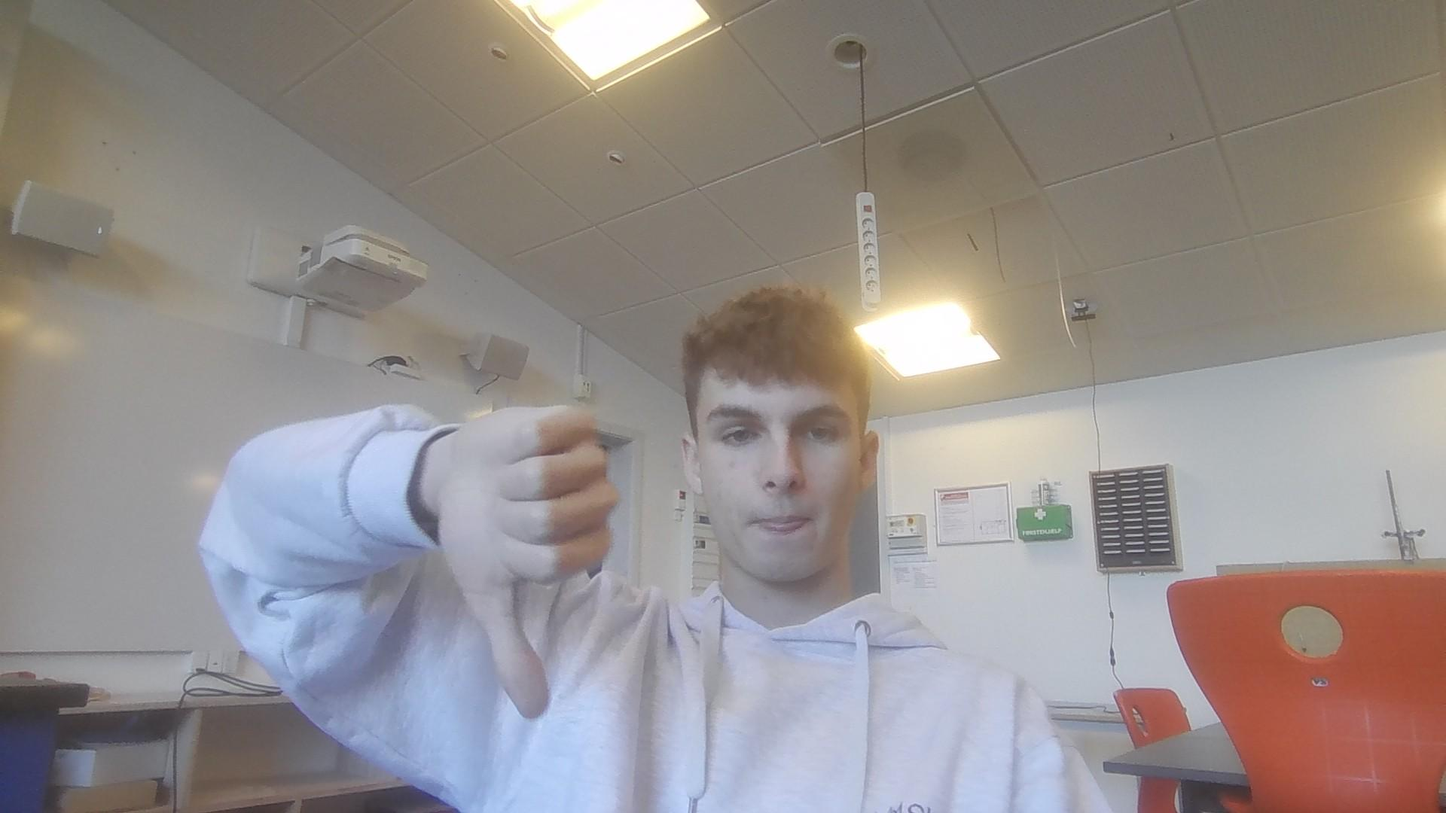thumbs down: (439, 401, 623, 699)
